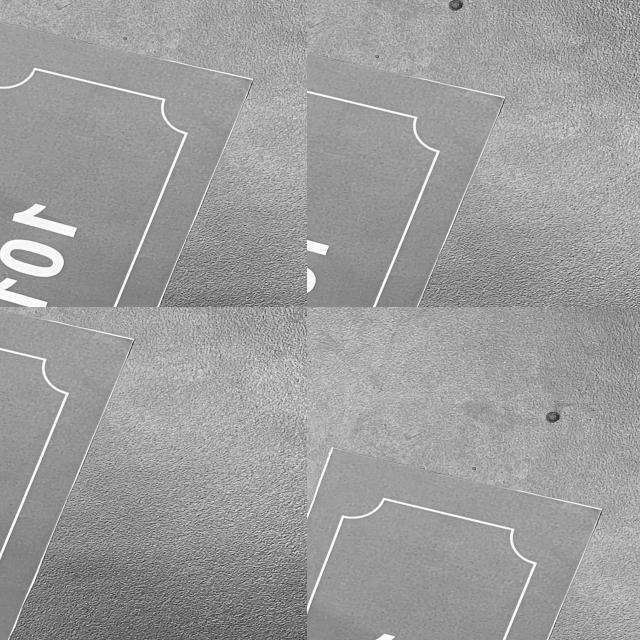Card: (307, 0, 640, 307), (307, 414, 639, 640), (0, 360, 201, 640)
